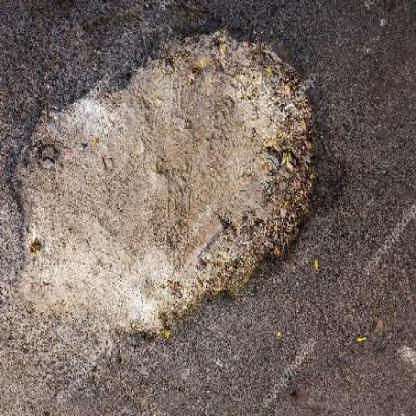pothole: (2, 27, 350, 360)
